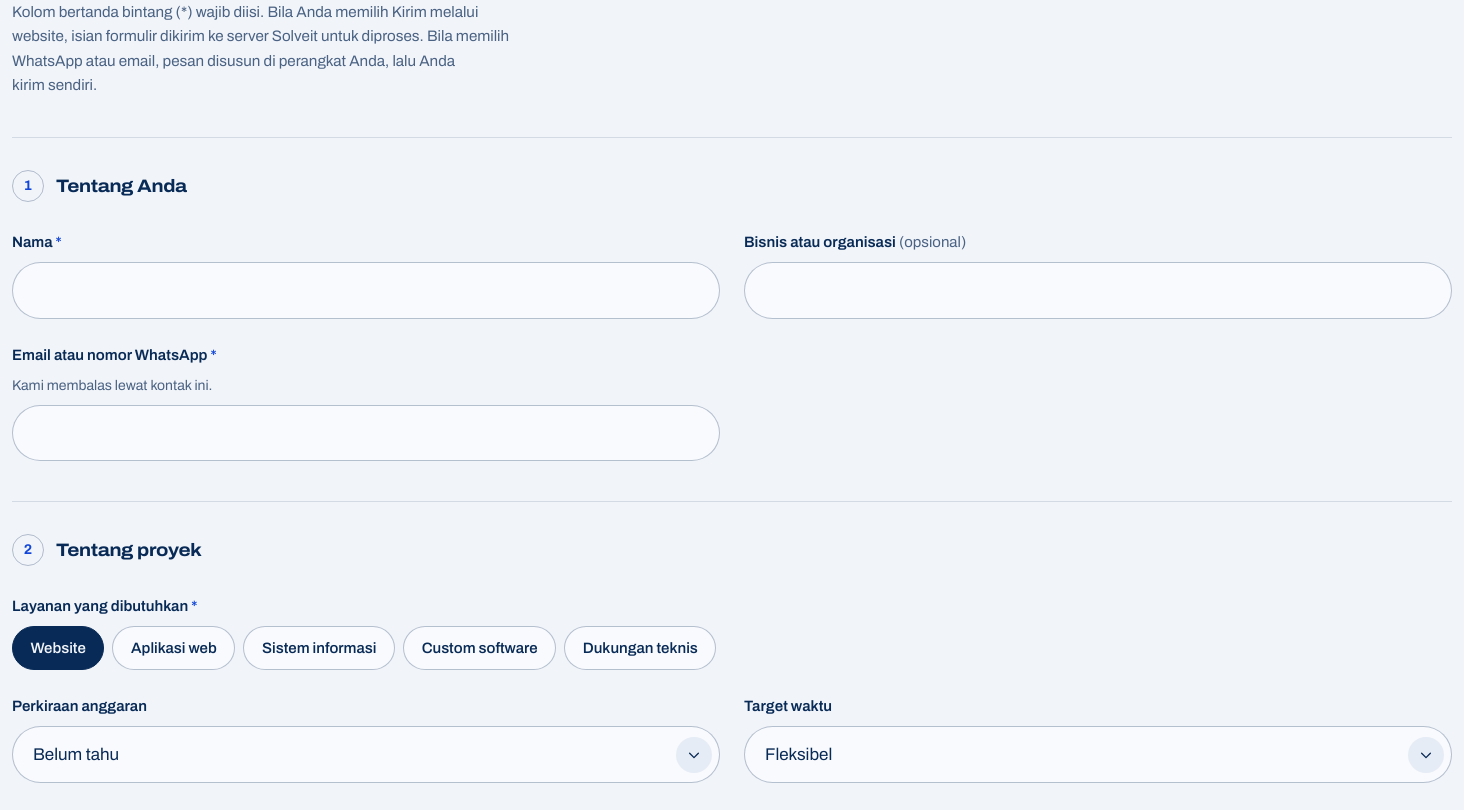
Scenario: InquiryForm with the website channel › explains a rate limit ({"Retry-After":"90"}) without a countdown
The width and height of the screenshot is (1464, 810).
Type "Rina Wulandari" into the field labelled "Nama *".
click(366, 290); type("Rina Wulandari")  # box [12,262,720,319]
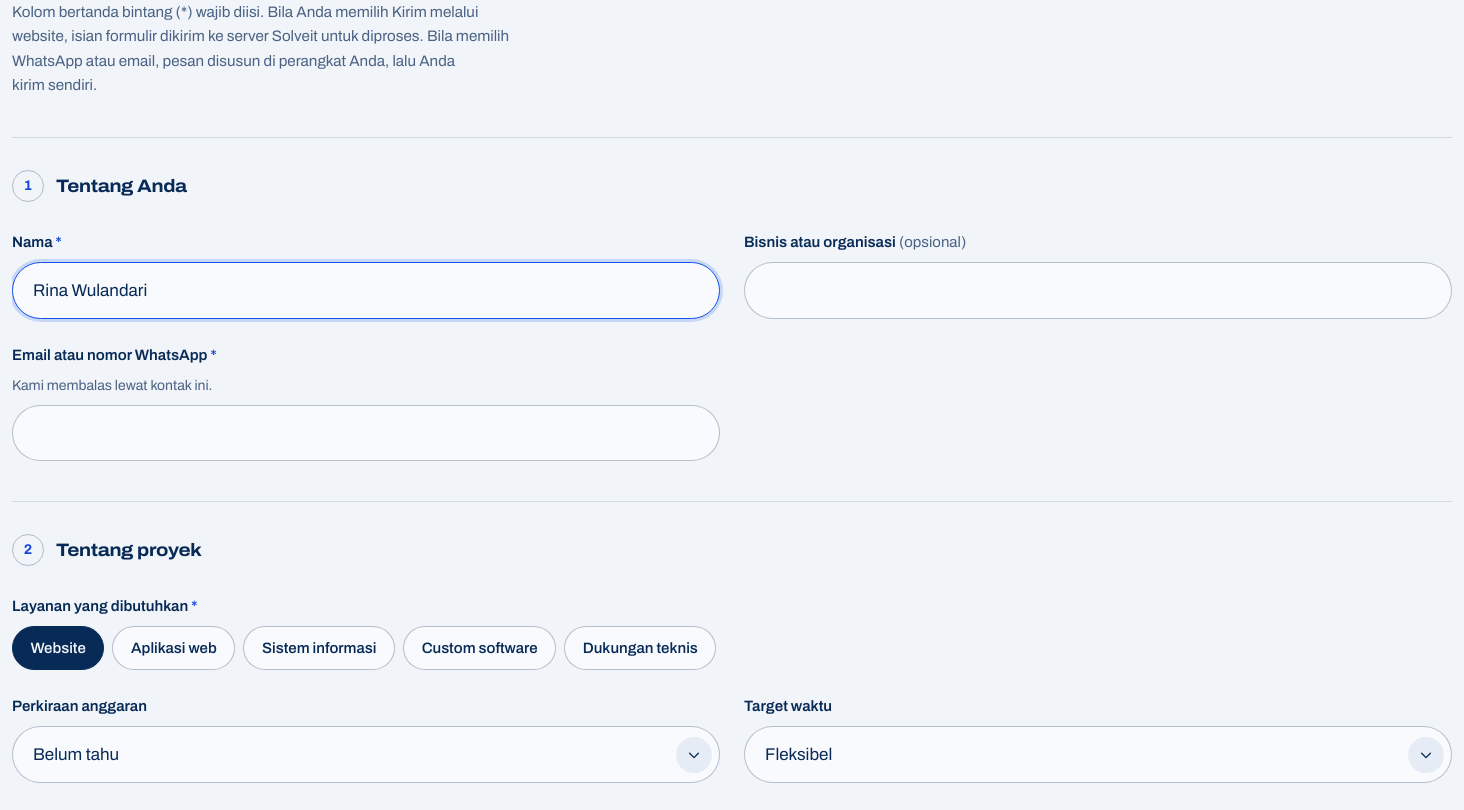
Type "rina@example.com" into the field labelled "Email atau nomor WhatsApp *".
click(366, 433); type("rina@example.com")  # box [12,405,720,461]
(page scrolled)
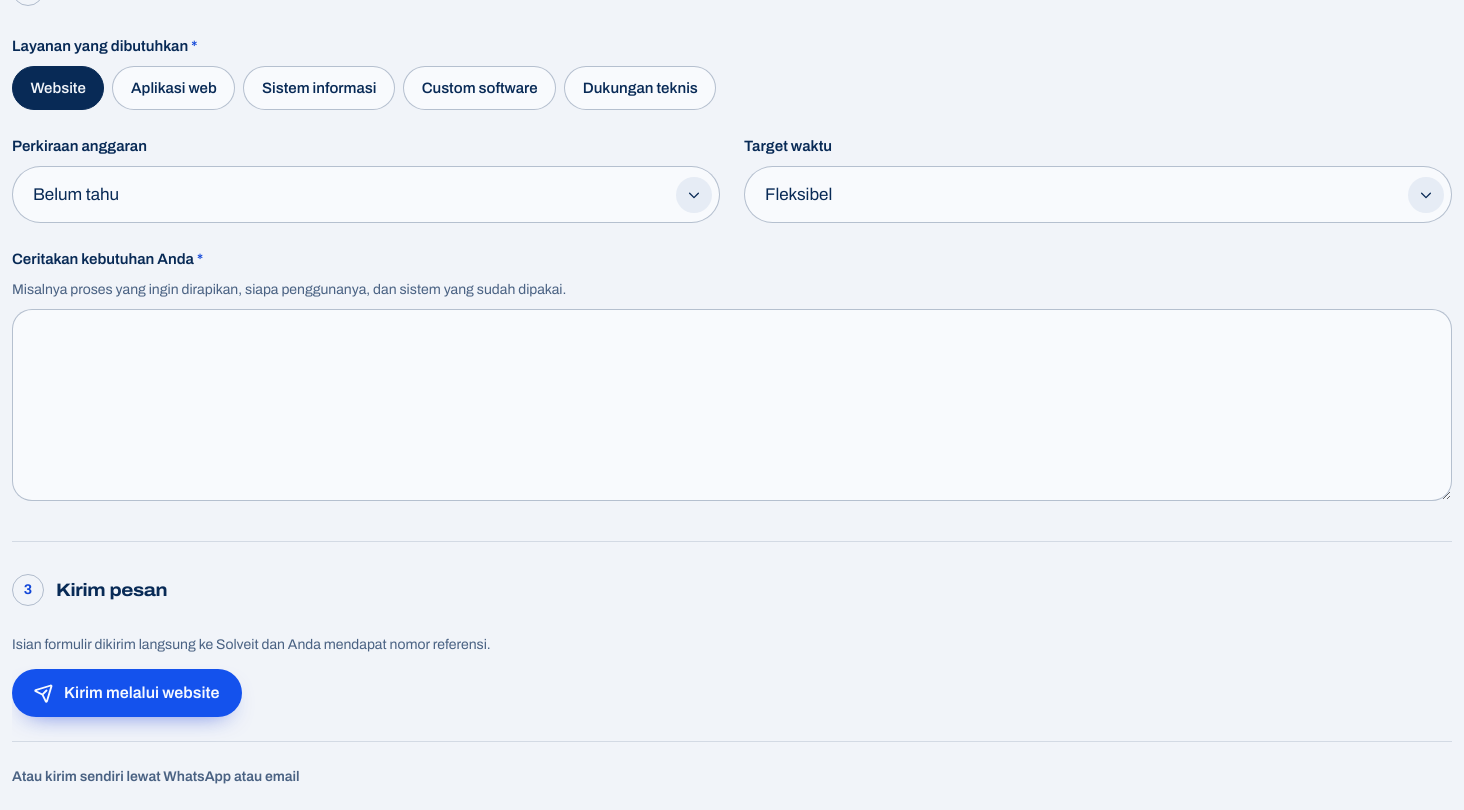
Type "Kami butuh website profil dengan katalog produk." into the text box labelled "Ceritakan kebutuhan Anda *".
click(732, 405); type("Kami butuh website profil dengan katalog produk.")  # box [12,309,1452,502]
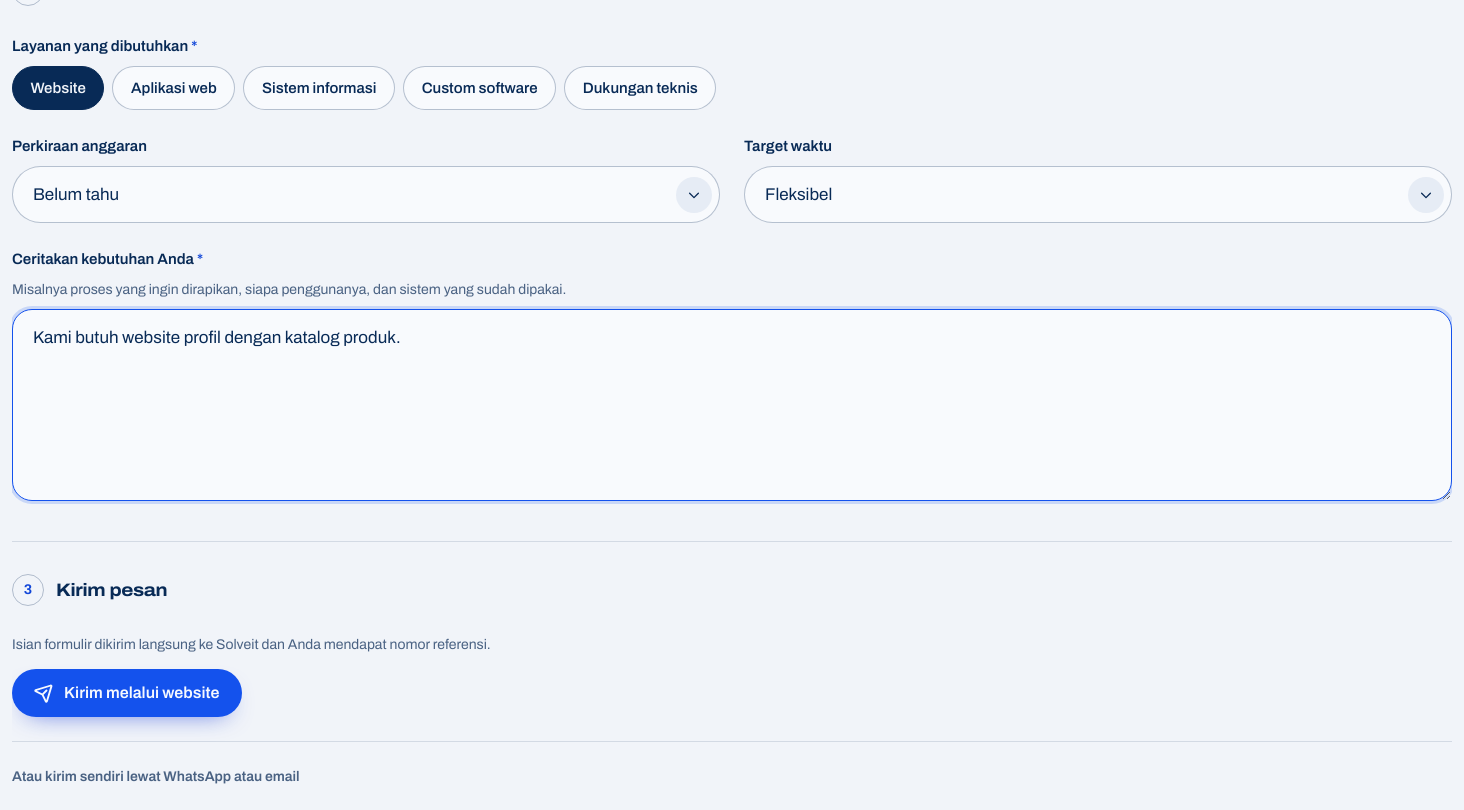
Click the button "Kirim melalui website".
click(127, 693)  # box [12,669,242,717]
(page scrolled)
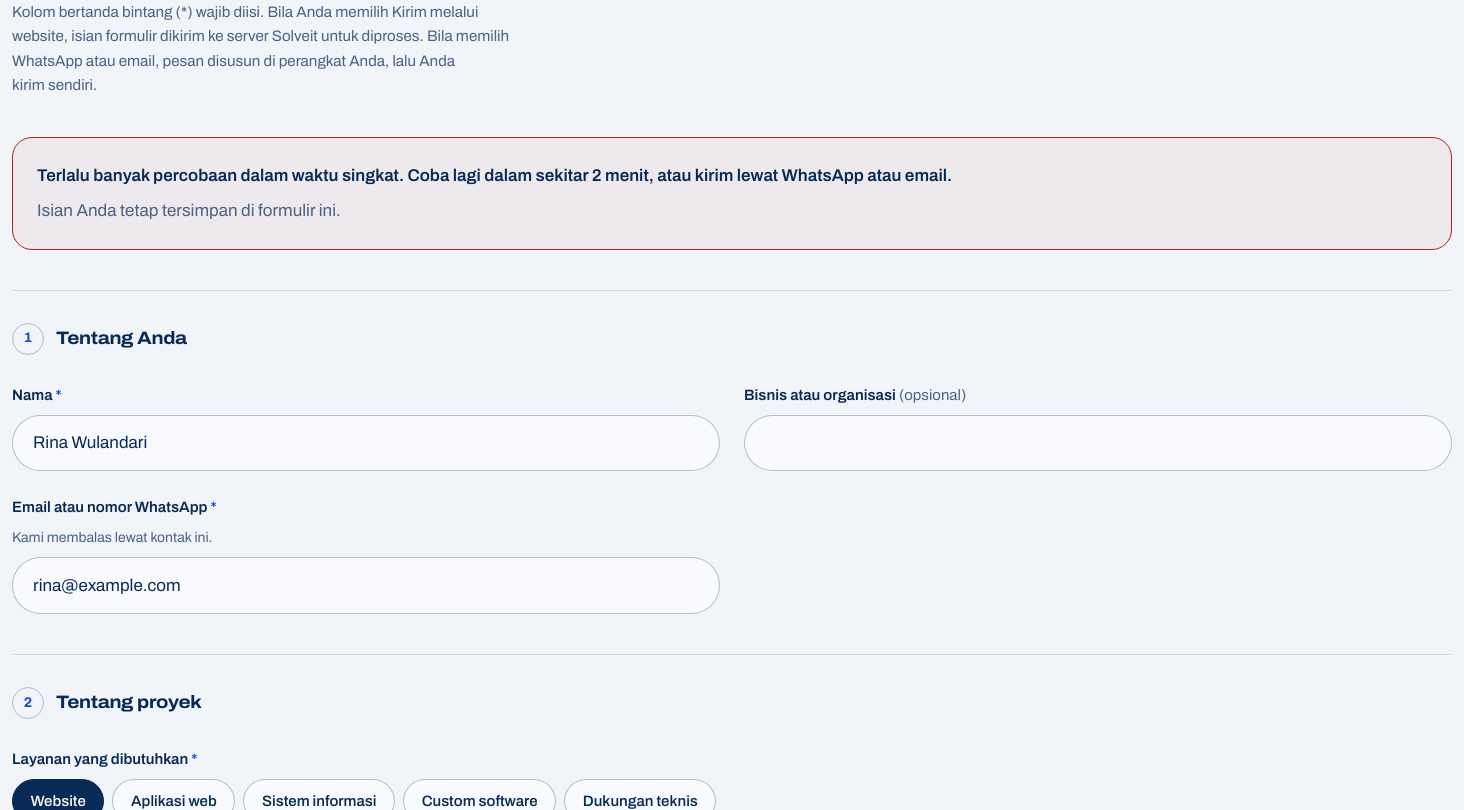
Now the message shows "Terlalu banyak percobaan", box [37,166,952,185]
Now the message shows "Coba lagi dalam sekitar 2 menit", box [37,166,952,185]
